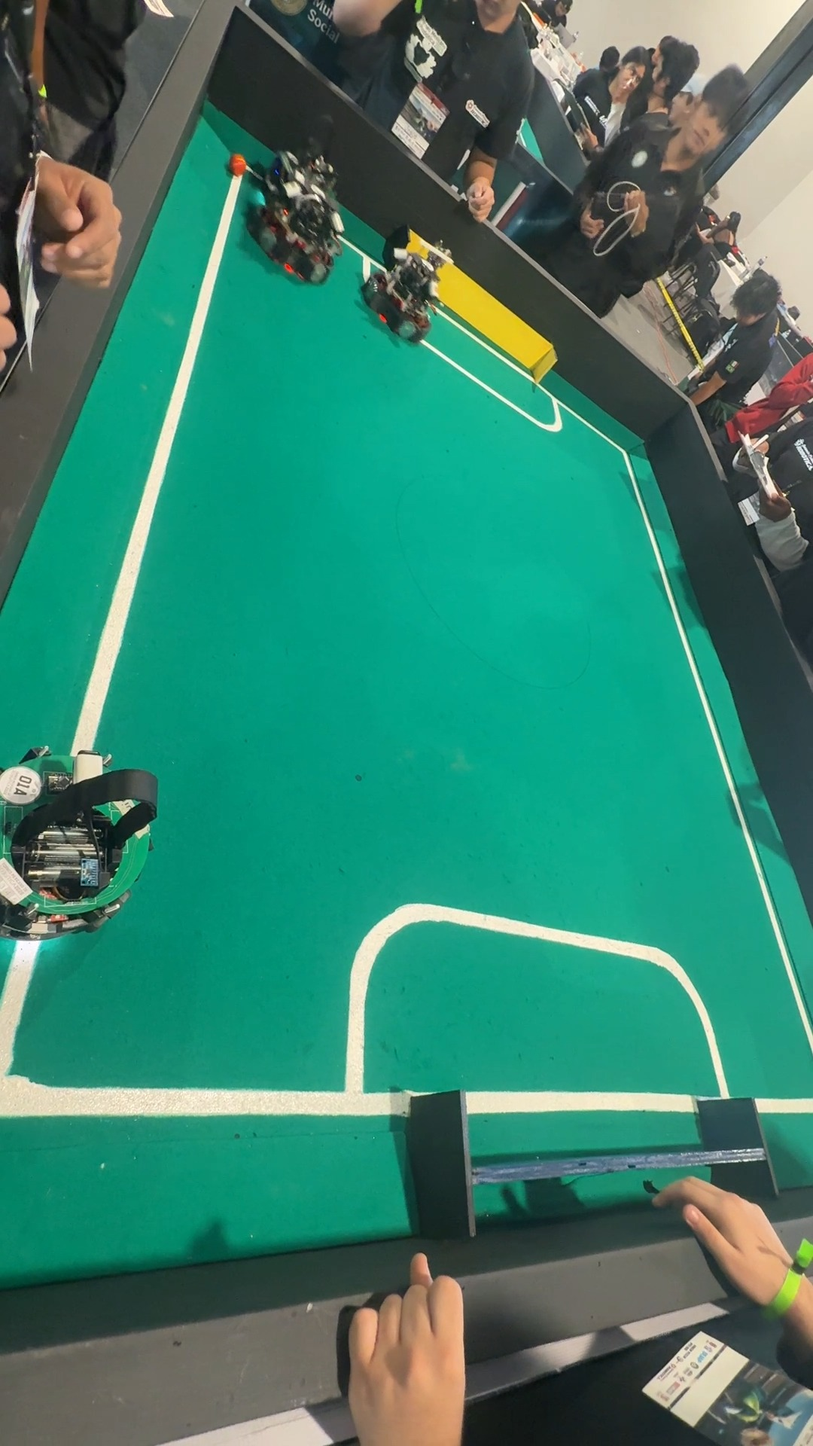Robot: (0, 719, 165, 957), (243, 133, 349, 294), (356, 231, 452, 360)
